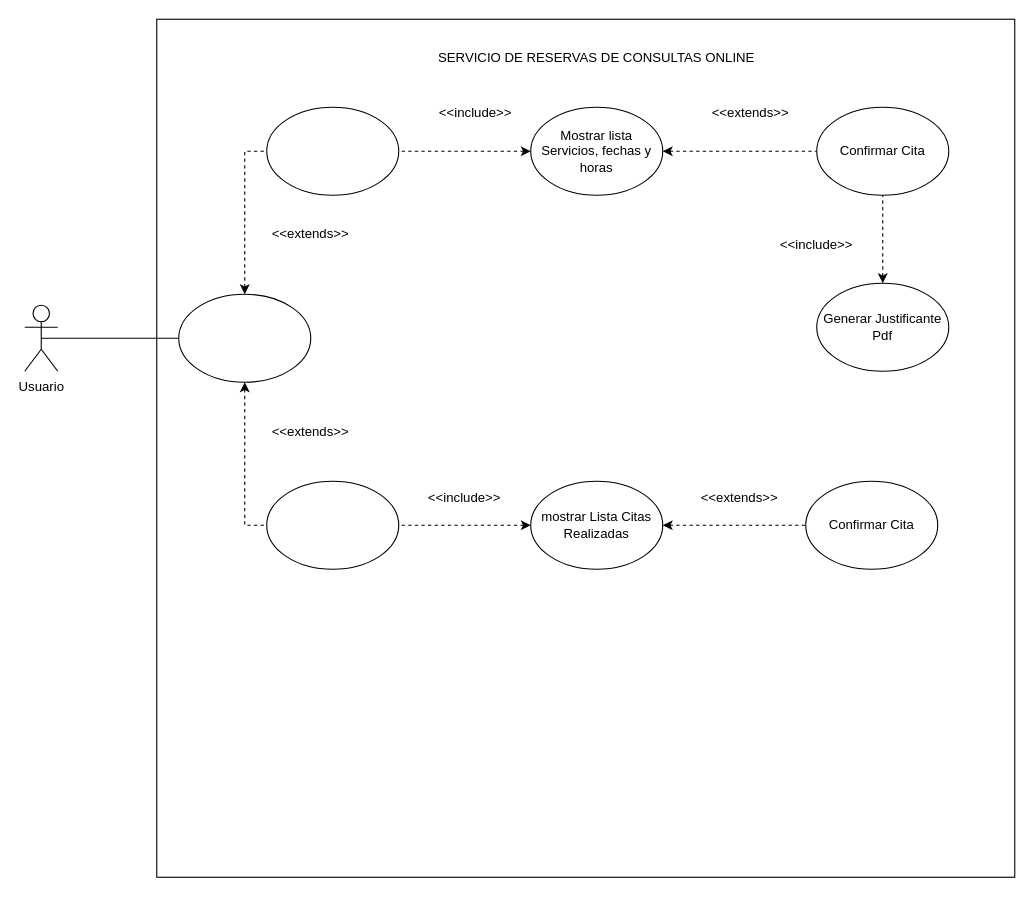
The diagram is 1034 pixels wide and 897 high, and some of its shapes have lost their labels. Here are the shapes that lost their labels. From the top down, the box of each, then its label:
(266, 106, 399, 195): Reservar Cita
(178, 293, 311, 382): Autenticarse
(266, 480, 399, 569): Anular Cita
